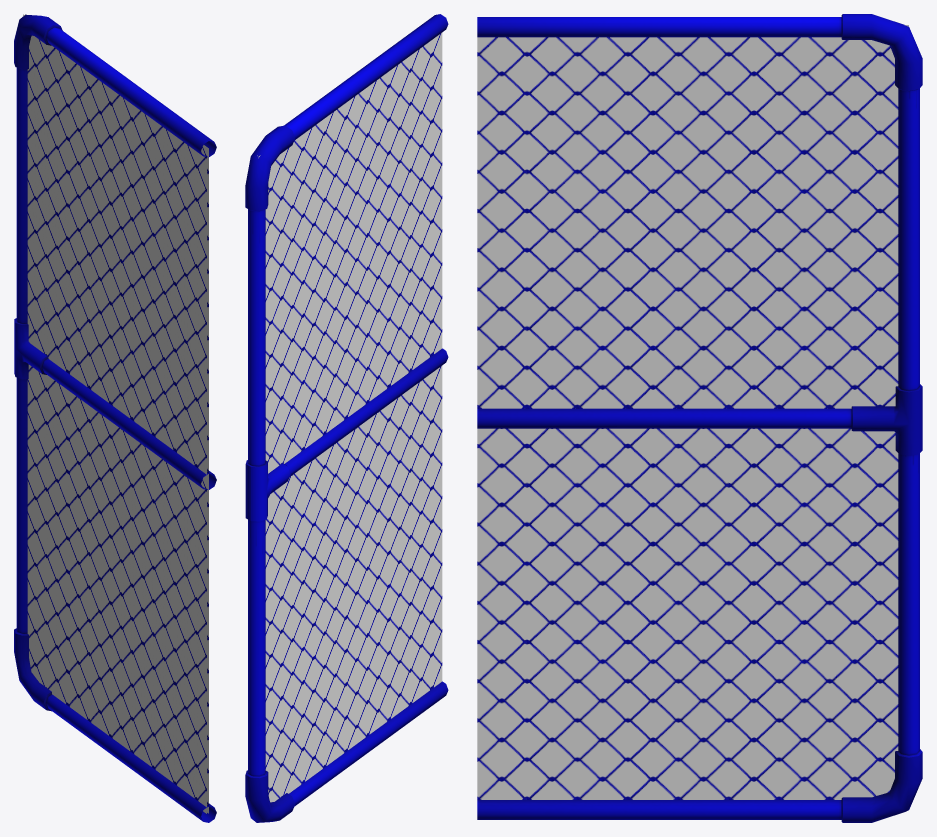
Rendered from fence01.fbx.
The picture shows the model from 3 angles, left to right: view 1: azimuth 30°, elevation 25°; view 2: azimuth 150°, elevation 25°; view 3: azimuth 270°, elevation 25°; orthographic projection. The views are drawn at different scales.
Parts seen in each view (by area): view 1: fence; view 2: fence; view 3: fence.
Boxes of the visible parts, bbox=[...] form: fence: bbox=[14, 14, 216, 822]; fence: bbox=[245, 14, 448, 822]; fence: bbox=[477, 14, 922, 822].
Bounding box in the file's own units: 25.71 × 826 × 413.
